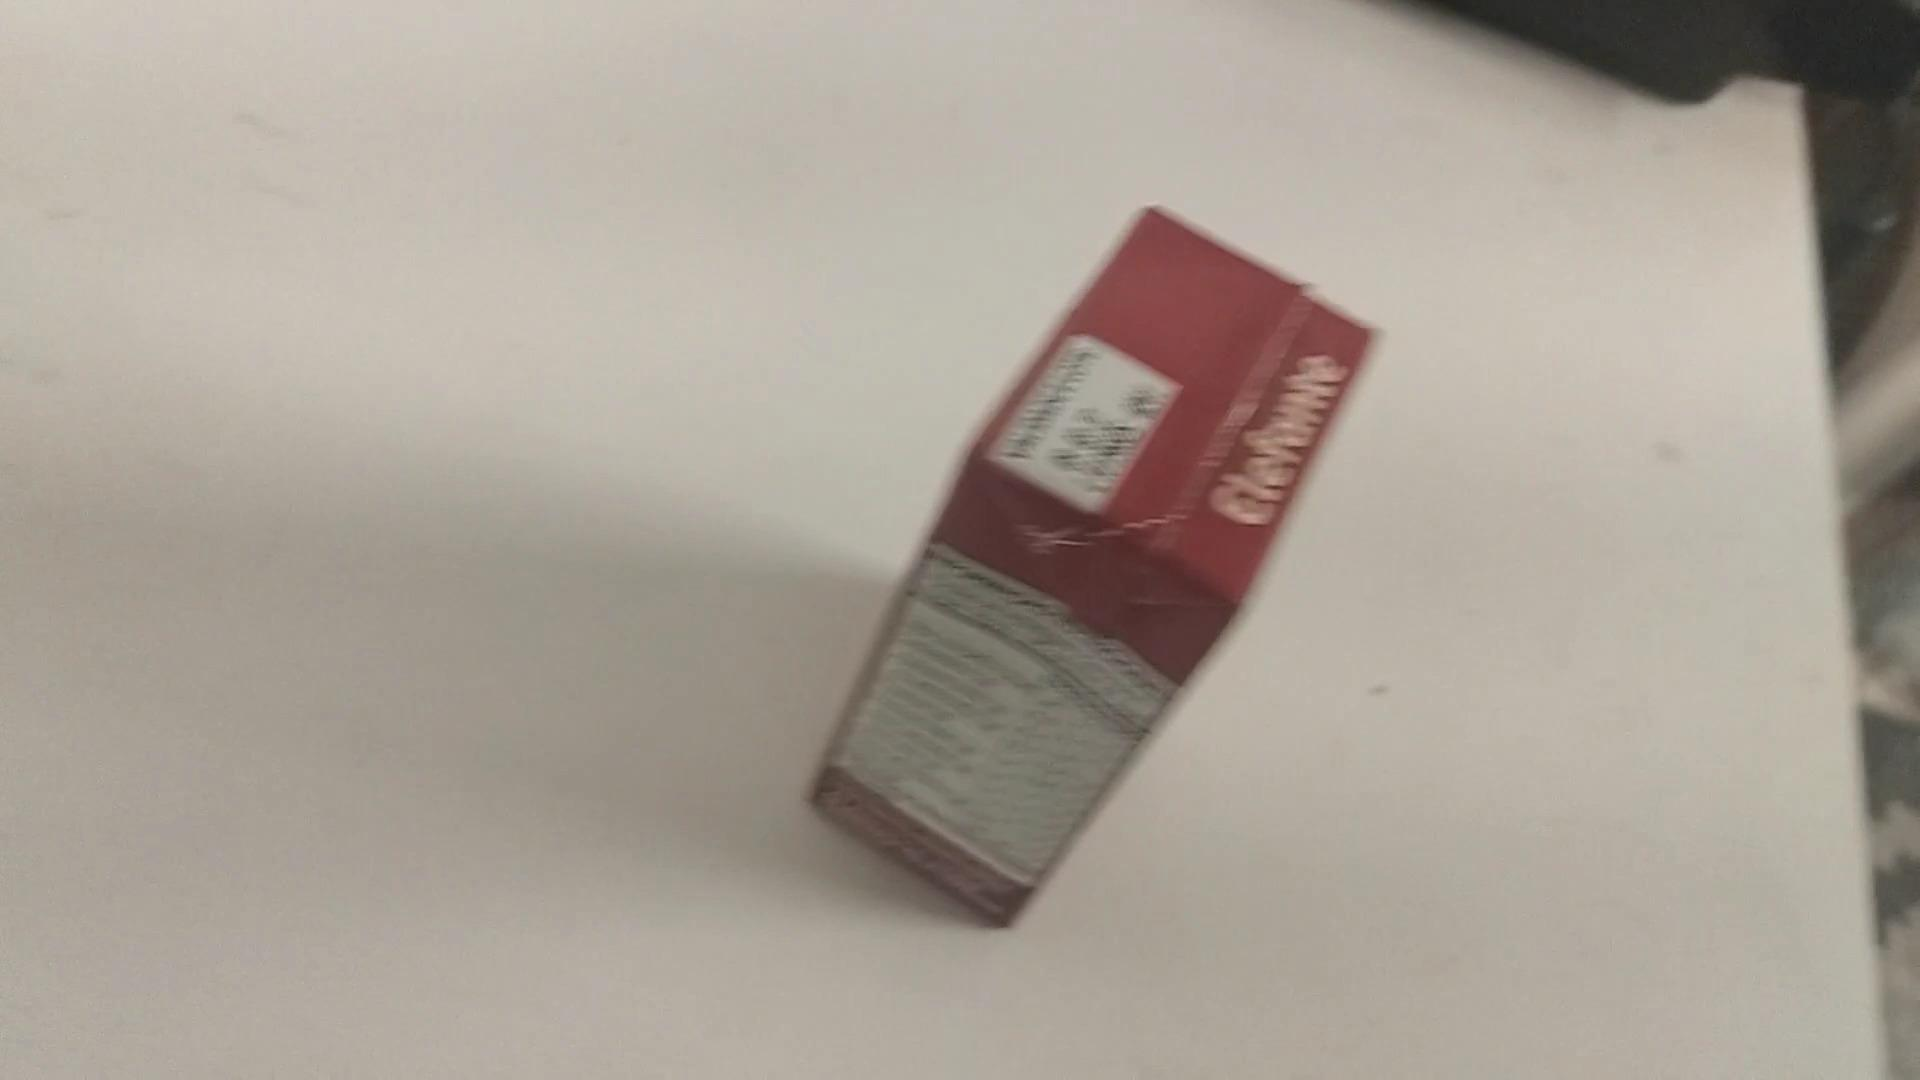tomate: (770, 182, 1394, 936)
